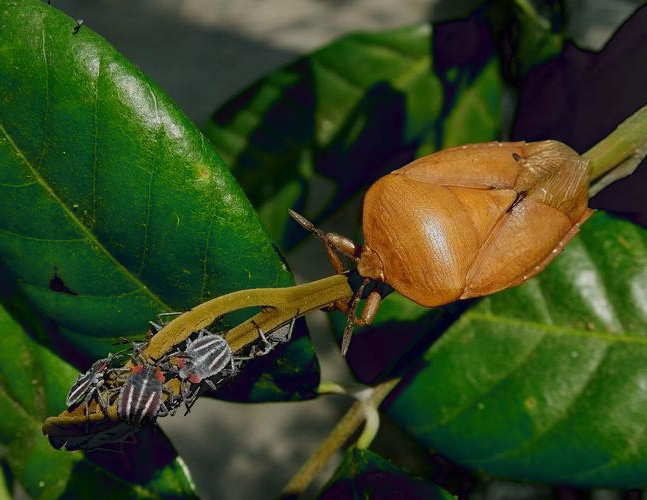Stink_Bug: (344, 134, 591, 288), (110, 361, 171, 421), (62, 351, 114, 415), (178, 334, 237, 390)
